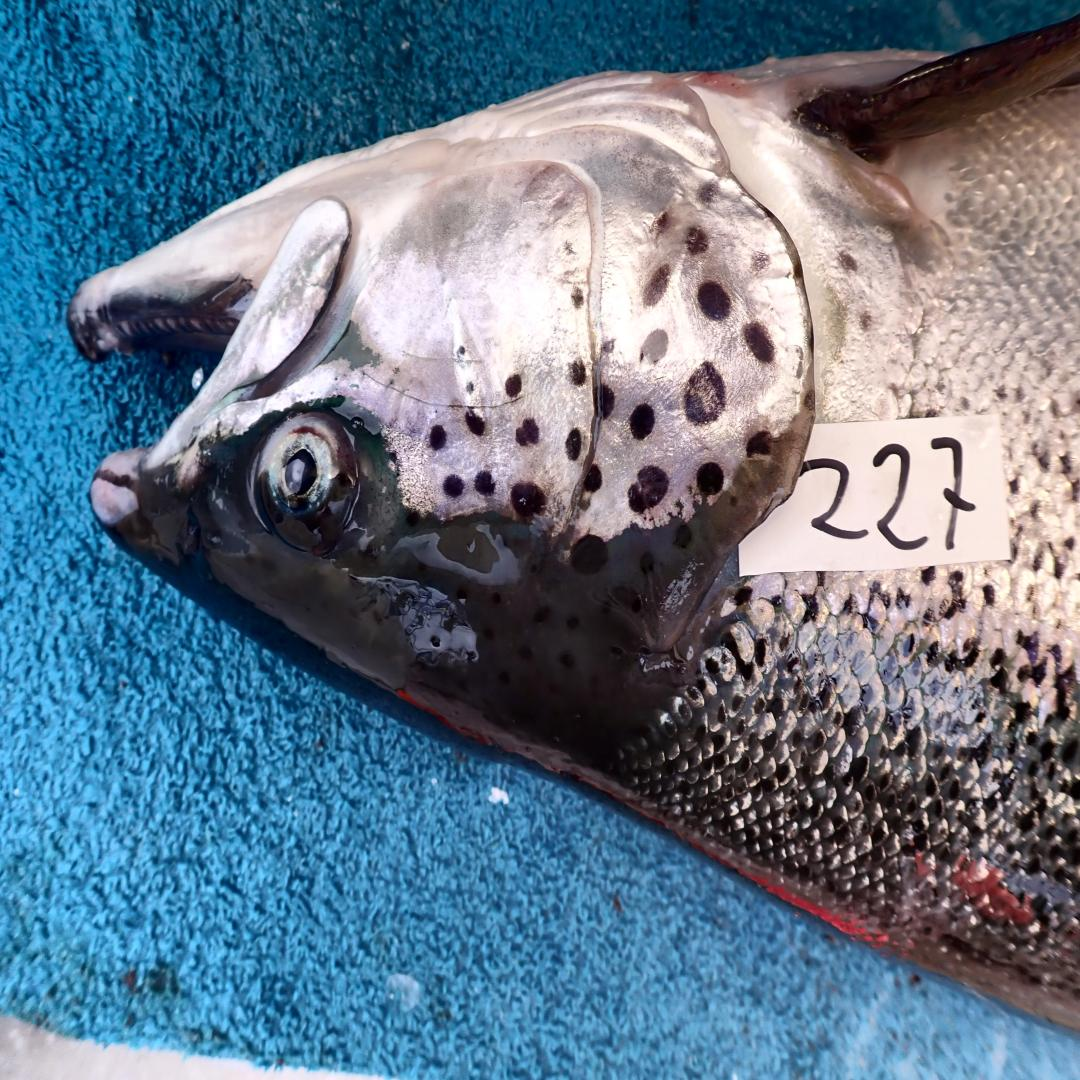spot: (683, 360, 726, 428), (629, 467, 669, 515), (571, 534, 608, 575), (510, 481, 546, 518), (698, 281, 730, 321), (745, 321, 774, 363), (643, 264, 671, 307), (639, 329, 669, 366), (696, 461, 724, 495), (629, 405, 654, 439), (686, 225, 709, 256), (515, 419, 540, 447), (747, 430, 772, 458), (650, 205, 670, 238), (697, 180, 721, 206), (749, 249, 770, 277), (599, 385, 616, 419), (565, 428, 582, 461), (475, 470, 496, 495), (443, 475, 464, 498), (584, 464, 601, 492), (428, 425, 447, 450), (466, 411, 485, 436), (504, 374, 521, 399), (570, 360, 586, 385), (600, 337, 616, 357), (572, 287, 584, 309), (464, 379, 474, 395), (455, 344, 467, 356)
